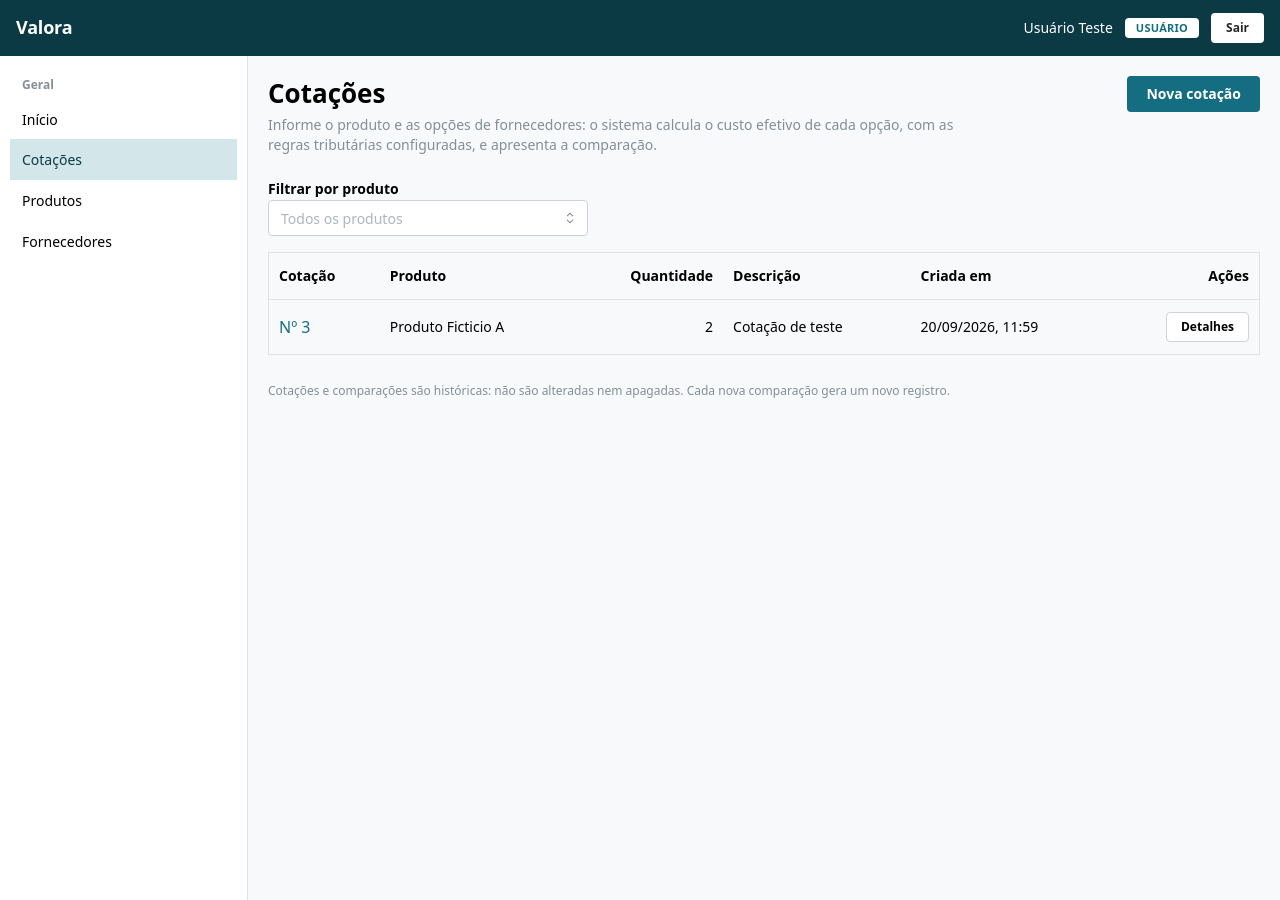
Test: CotacoesPage — listagem › filtra por produto usando o parâmetro do backend
Expected: the table named "Cotações registradas" is shown, top-left (268, 252), bottom-right (1260, 355)
Click the dropdown labelled "Filtrar por produto": [428, 218] box top-left (268, 200), bottom-right (588, 236)
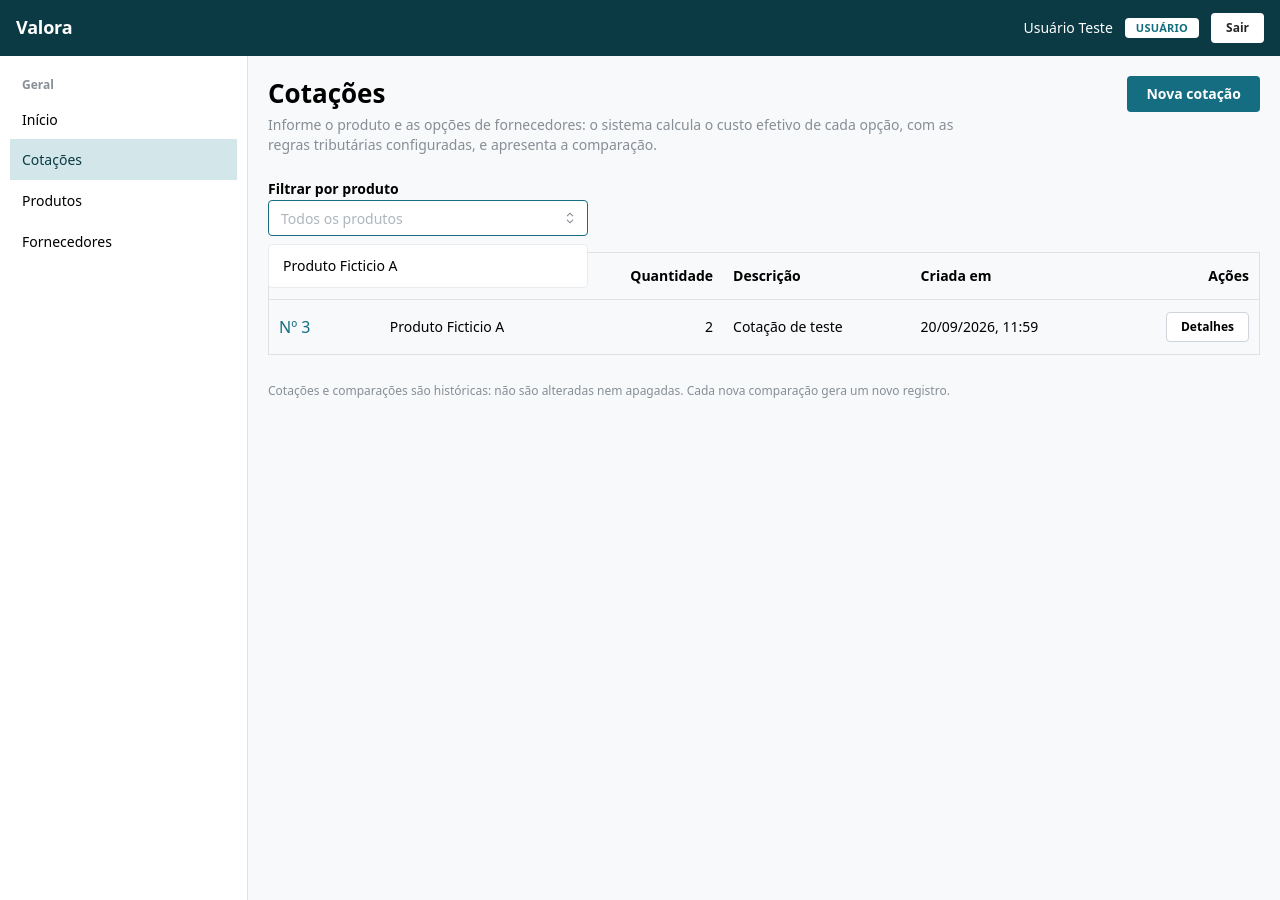
Click the option "Produto Ficticio A": [340, 266] box top-left (283, 256), bottom-right (398, 276)
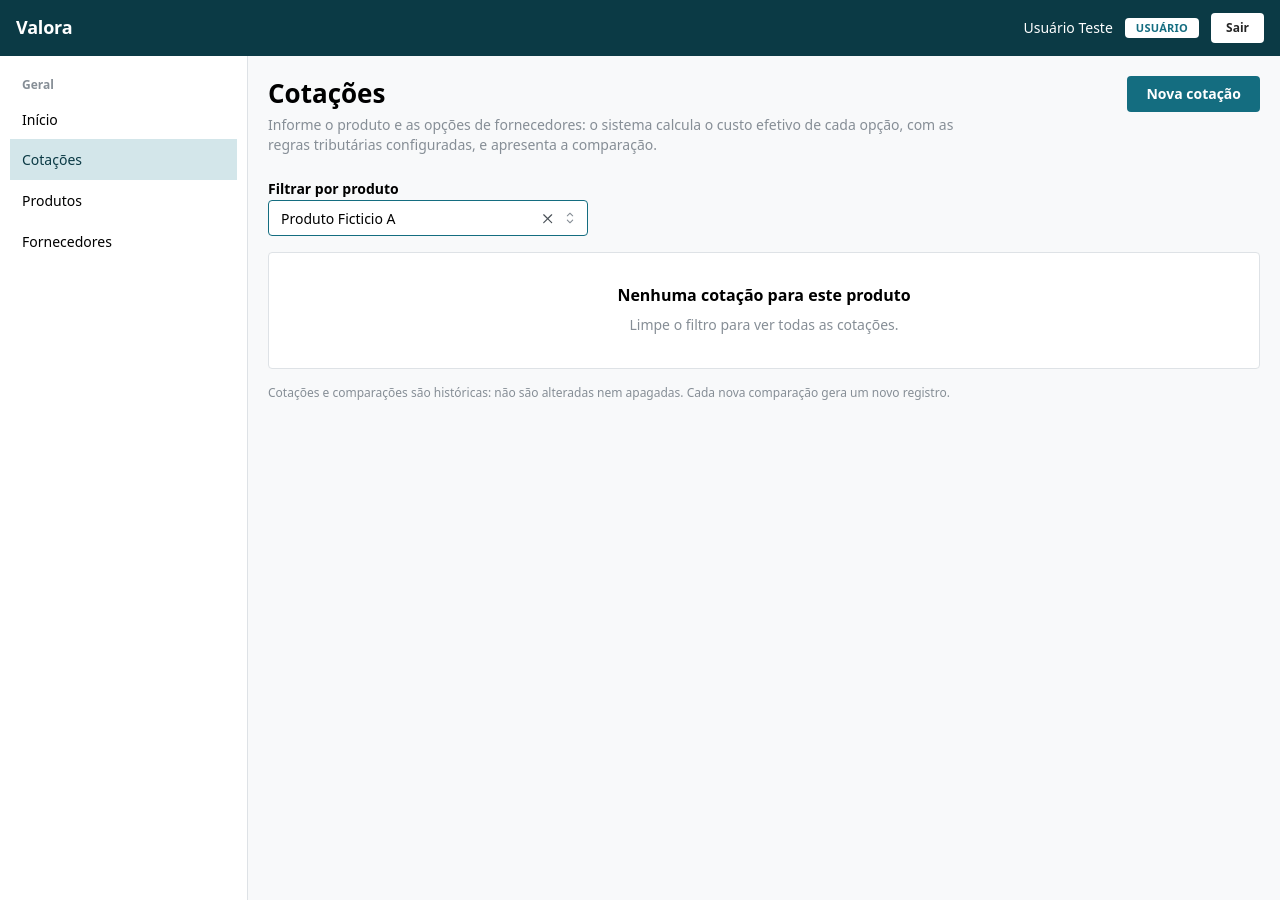
Result: the text "Nenhuma cotação para este produto" is shown at top-left (617, 286), bottom-right (911, 306)
